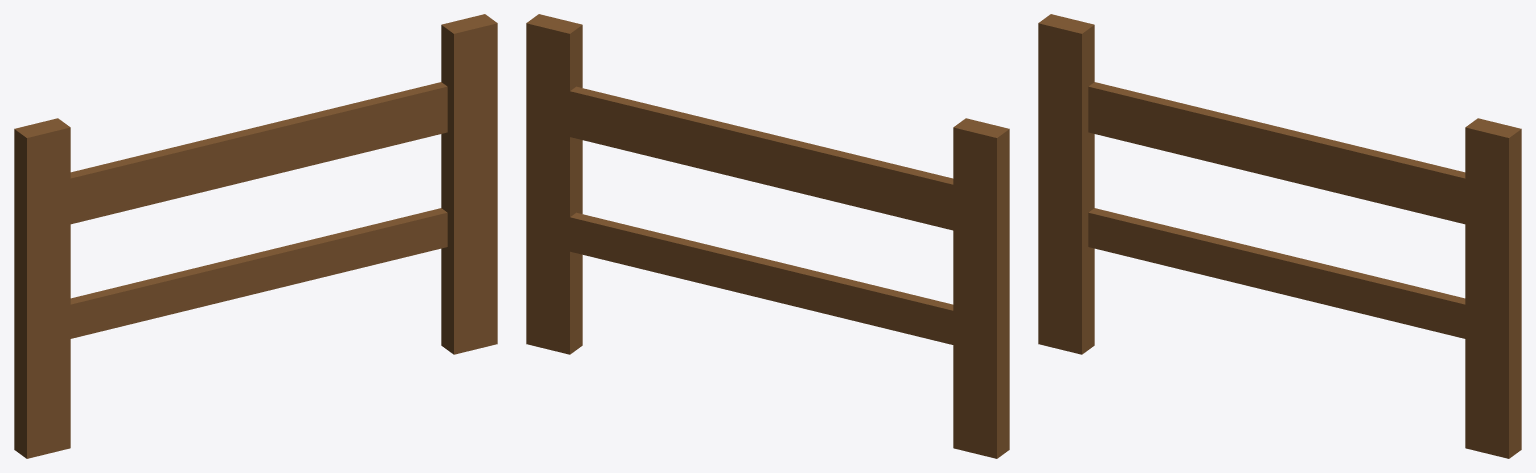
Rendered from fence.obj.
3 renders of one model, left to right at view 1: azimuth 30°, elevation 25°; view 2: azimuth 150°, elevation 25°; view 3: azimuth 330°, elevation 25°, orthographic.
Parts seen in each view (by area): view 1: fence; view 2: fence; view 3: fence.
Boxes of the visible parts, <box> form: fence: <box>14,14,497,458</box>; fence: <box>526,14,1009,458</box>; fence: <box>1038,14,1521,458</box>.
Bounding box in the file's own units: 43 × 28 × 2.
1 material, 1 textured.
